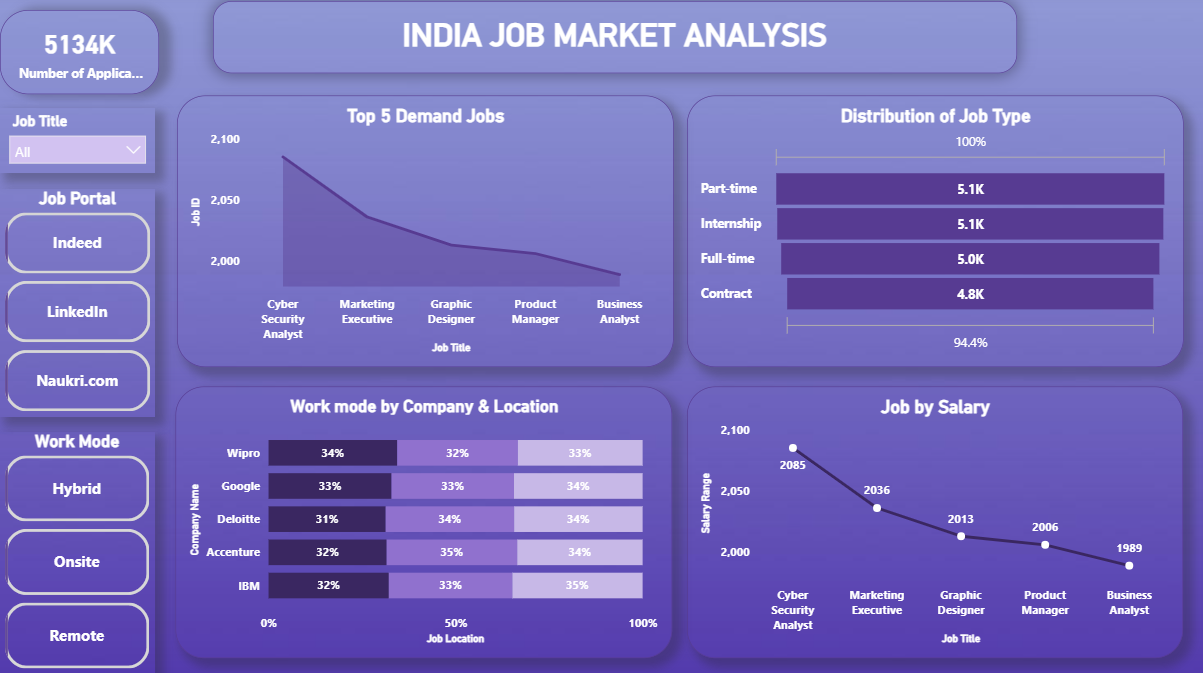

This screenshot's page, from the dashboard's own definition file:
{"tool":"powerbi","page":{"name":"Page 1","canvas":[1280,720],"ordinal":0},"visuals":[{"type":"textbox","box":[225.9,6.4,852.6,76.3],"z":0},{"type":"areaChart","title":"Top 5 Demand Jobs ","fields":{"Category":["india_job_market_dataset.Job Title"],"Y":["CountNonNull(india_job_market_dataset.Job ID)"]},"box":[187.7,106.6,526.5,287.9],"z":1000},{"type":"slicer","fields":{"Values":["india_job_market_dataset.Job Title"]},"box":[0,119.9,164.6,69.1],"z":2000},{"type":"funnel","title":"Distribution of Job Type","fields":{"Category":["india_job_market_dataset.Job Type"],"Y":["CountNonNull(india_job_market_dataset.Job ID)"]},"box":[728.5,106.6,526.5,287.9],"z":3000},{"type":"advancedSlicerVisual","title":"Work Mode ","fields":{"Values":["india_job_market_dataset.Remote/Onsite"],"Label":["CountNonNull(india_job_market_dataset.Job Title)"]},"box":[0,462.9,163.8,257.7],"z":4000},{"type":"lineChart","title":"Job by Salary ","fields":{"Y":["CountNonNull(india_job_market_dataset.Salary Range)"],"Category":["india_job_market_dataset.Job Title"]},"box":[728.9,415.6,526,288],"z":5000},{"type":"hundredPercentStackedBarChart","title":"Work mode by Company & Location","fields":{"Y":["CountNonNull(india_job_market_dataset.Job Location)"],"Category":["india_job_market_dataset.Company Name"],"Series":["india_job_market_dataset.Remote/Onsite"]},"box":[186.7,415.6,526.7,288],"z":6000},{"type":"advancedSlicerVisual","fields":{"Values":["india_job_market_dataset.Job Portal"]},"box":[0,205.2,164.6,241.8],"z":7000},{"type":"card","fields":{"Values":["Sum(india_job_market_dataset.Number of Applicants)"]},"box":[0,16.3,168.6,89.4],"z":8000},{"type":"areaChart","title":"Experience Required by Company ","fields":{"Category":["india_job_market_dataset.Company Name"],"Series":["india_job_market_dataset.Job Type"],"Y":["CountNonNull(india_job_market_dataset.Experience Required)"]},"box":[31.6,741,562.9,321.7],"z":9000},{"type":"lineChart","title":" Applicants by Job Portal & Location","fields":{"Category":["india_job_market_dataset.Job Portal"],"Y":["Sum(india_job_market_dataset.Number of Applicants)"],"Series":["india_job_market_dataset.Job Location"]},"box":[651.9,741,562.9,321.7],"z":10000}]}

Visuals, with their boxes in screenshot pixels (x1, y1, x2, y2), scaled from the page's 1280x720 canvas onto the 1203x673 screenshot:
textbox: detection(212, 6, 1014, 77)
"Top 5 Demand Jobs " areaChart: detection(176, 100, 671, 369)
slicer - india_job_market_dataset.Job Title: detection(0, 112, 155, 177)
"Distribution of Job Type" funnel: detection(685, 100, 1180, 369)
"Work Mode " advancedSlicerVisual: detection(0, 433, 154, 672)
"Job by Salary " lineChart: detection(685, 388, 1179, 658)
"Work mode by Company & Location" hundredPercentStackedBarChart: detection(175, 388, 670, 658)
advancedSlicerVisual - india_job_market_dataset.Job Portal: detection(0, 192, 155, 418)
card - Sum(india_job_market_dataset.Number of Applicants): detection(0, 15, 158, 99)
